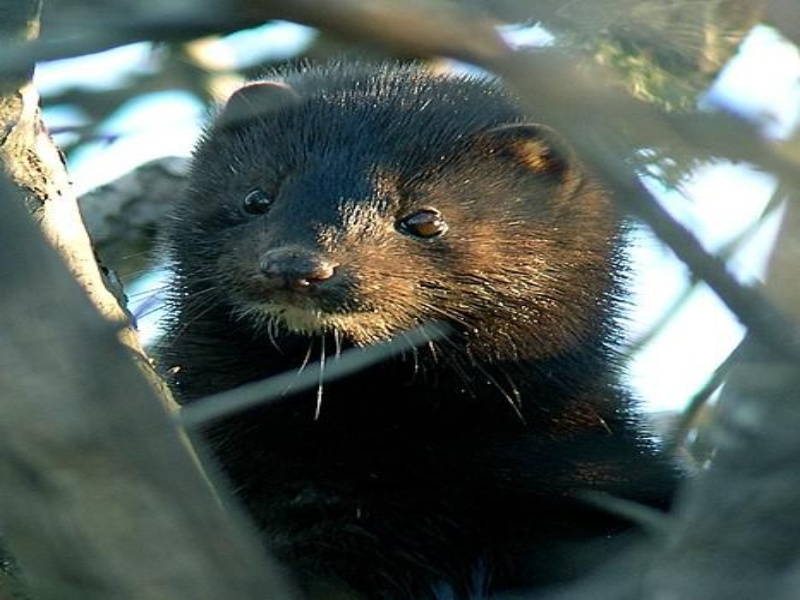minkish: (164, 68, 688, 568)
